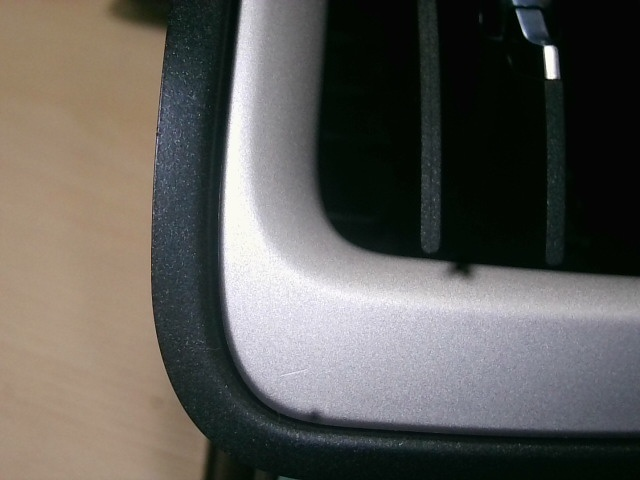NG: (281, 360, 314, 385)
